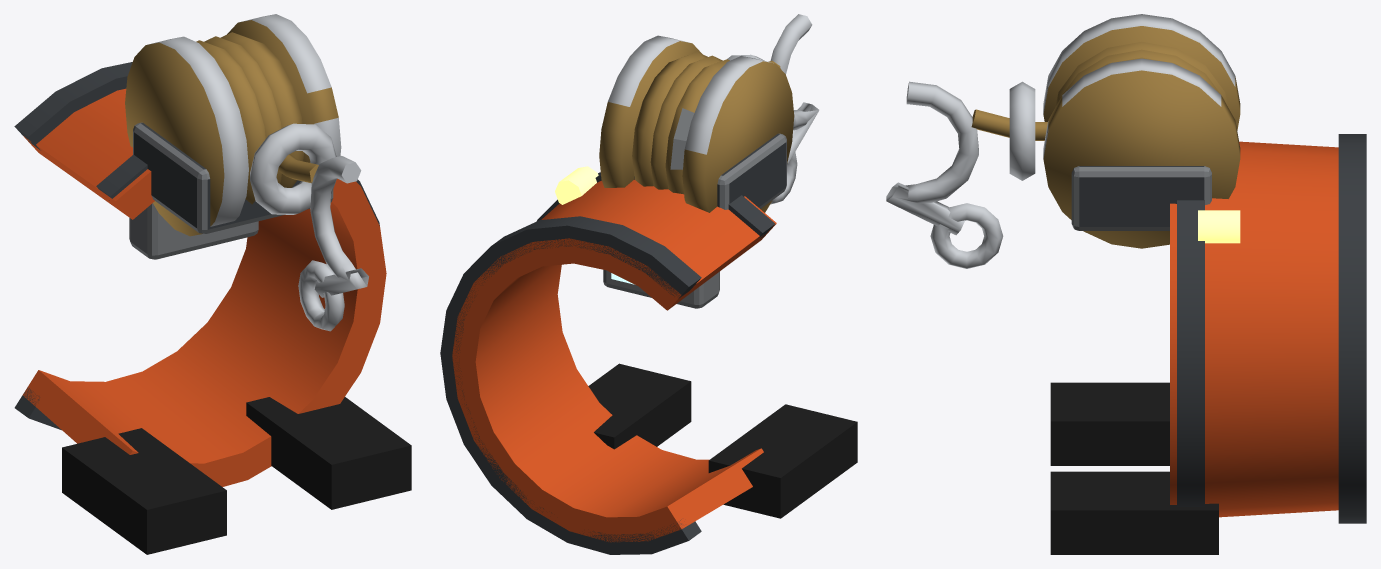
The model's file is leash_gauntlet.fbx.
The picture shows the model from 3 angles, left to right: view 1: azimuth 30°, elevation 25°; view 2: azimuth 150°, elevation 25°; view 3: azimuth 270°, elevation 25°; orthographic projection. The views are drawn at different scales.
Visible parts, largest first — view 1: Mesh_Leash_Gauntlet; view 2: Mesh_Leash_Gauntlet; view 3: Mesh_Leash_Gauntlet.
Part boxes in pixels (x1,y1,x2,y2): Mesh_Leash_Gauntlet: (14, 14, 411, 554); Mesh_Leash_Gauntlet: (440, 14, 857, 554); Mesh_Leash_Gauntlet: (886, 14, 1366, 554).
Size of the model in its own units: 9.85 by 14.52 by 13.67.
